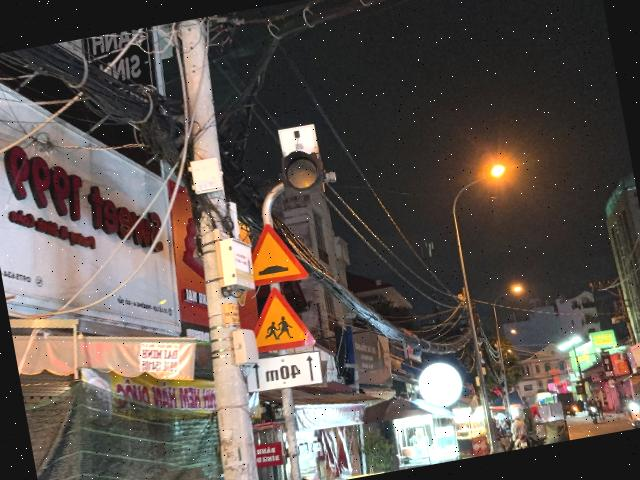duong-co-go-giam-toc: (246, 217, 309, 286)
tre-em-qua-duong: (247, 281, 316, 354)
